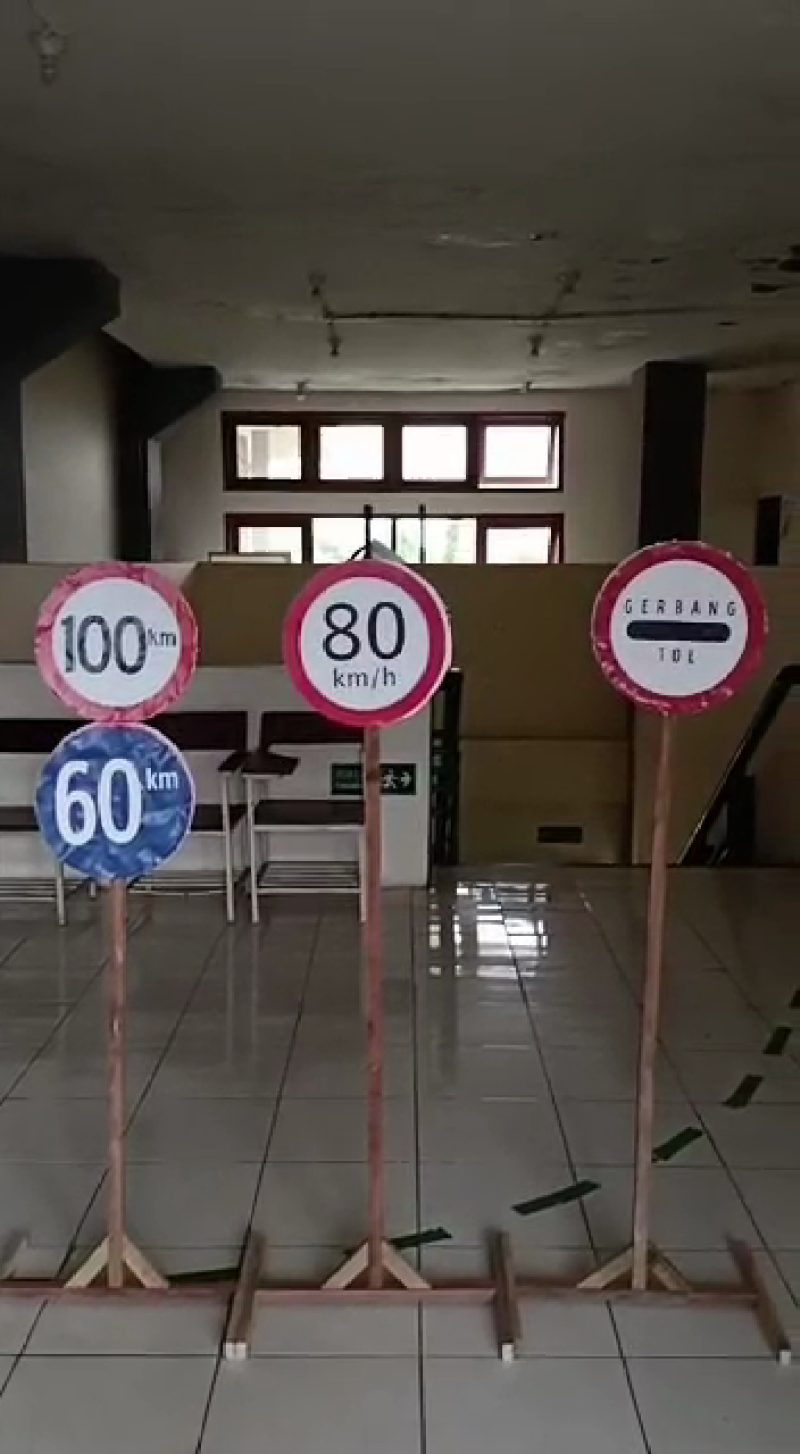batas maksimal 100kmperjam minimal 60kmperjam: (31, 555, 209, 892)
batas maksimal 80kmperjam: (270, 548, 470, 733)
gerbang tol: (589, 544, 774, 722)
